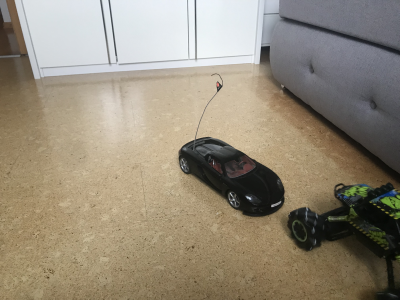remote control car: (286, 169, 400, 300)
